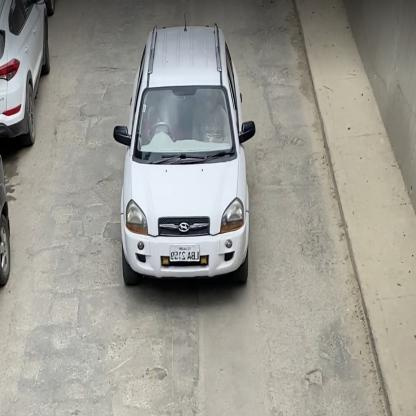Placa: (170, 245, 199, 262)
